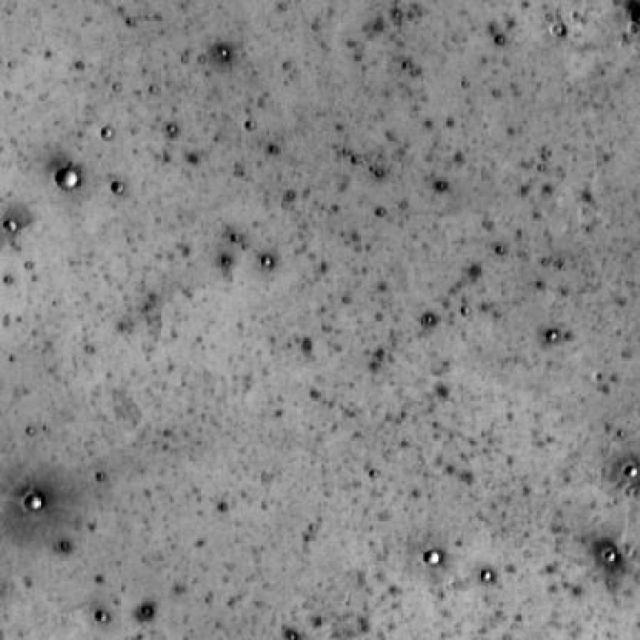crater: (56, 168, 78, 187)
